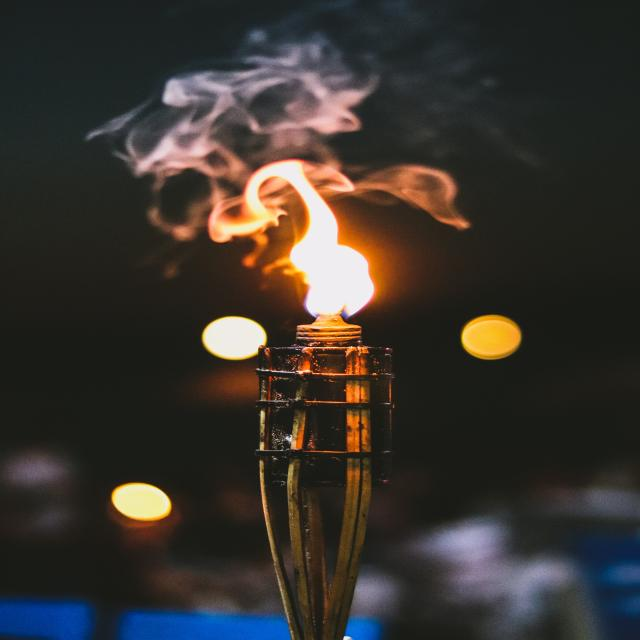fire: (201, 111, 383, 321)
